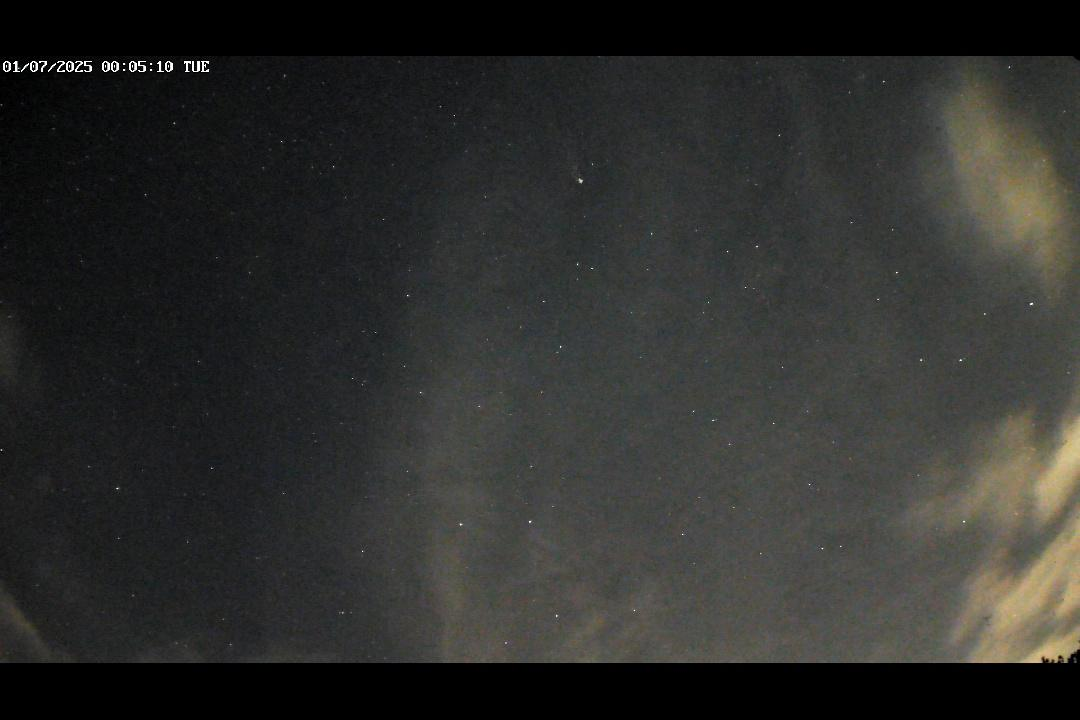Plane: (551, 137, 598, 190)
